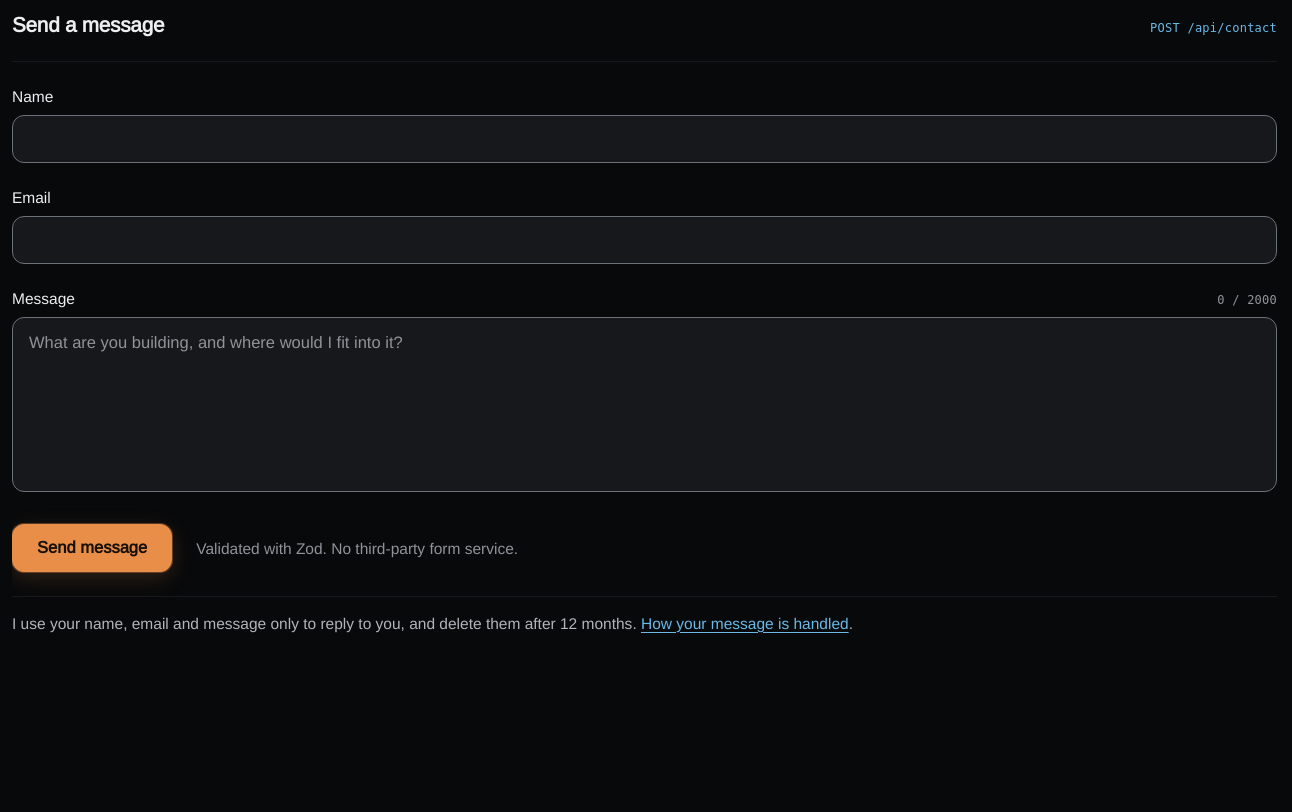
it: ContactForm › surfaces a failure without losing what was typed
The image size is (1292, 812).
Type "Ada Lovelace" into the field labelled "Name".
click(644, 139); type("Ada Lovelace")  # box x1=12 y1=115 x2=1277 y2=163
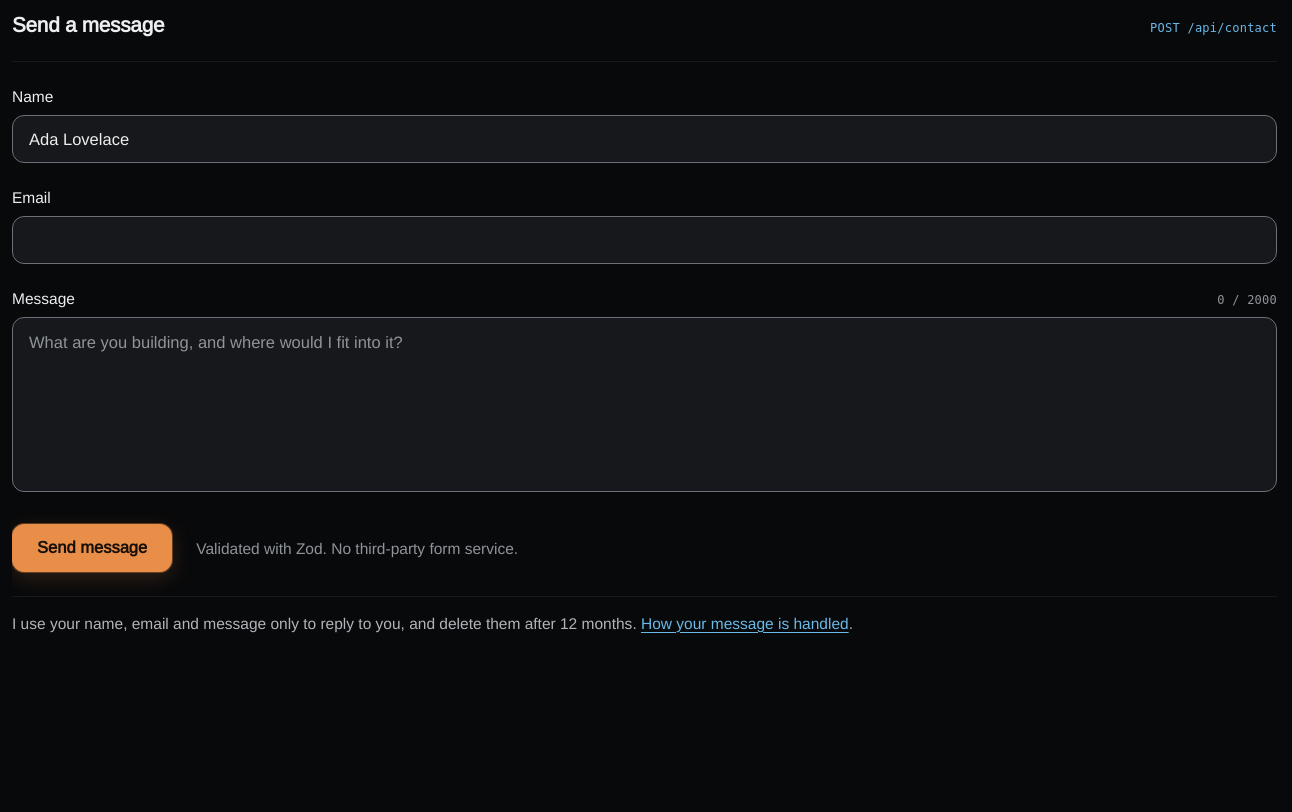
Type "ada@example.com" into the field labelled "Email".
click(644, 240); type("ada@example.com")  # box x1=12 y1=216 x2=1277 y2=264
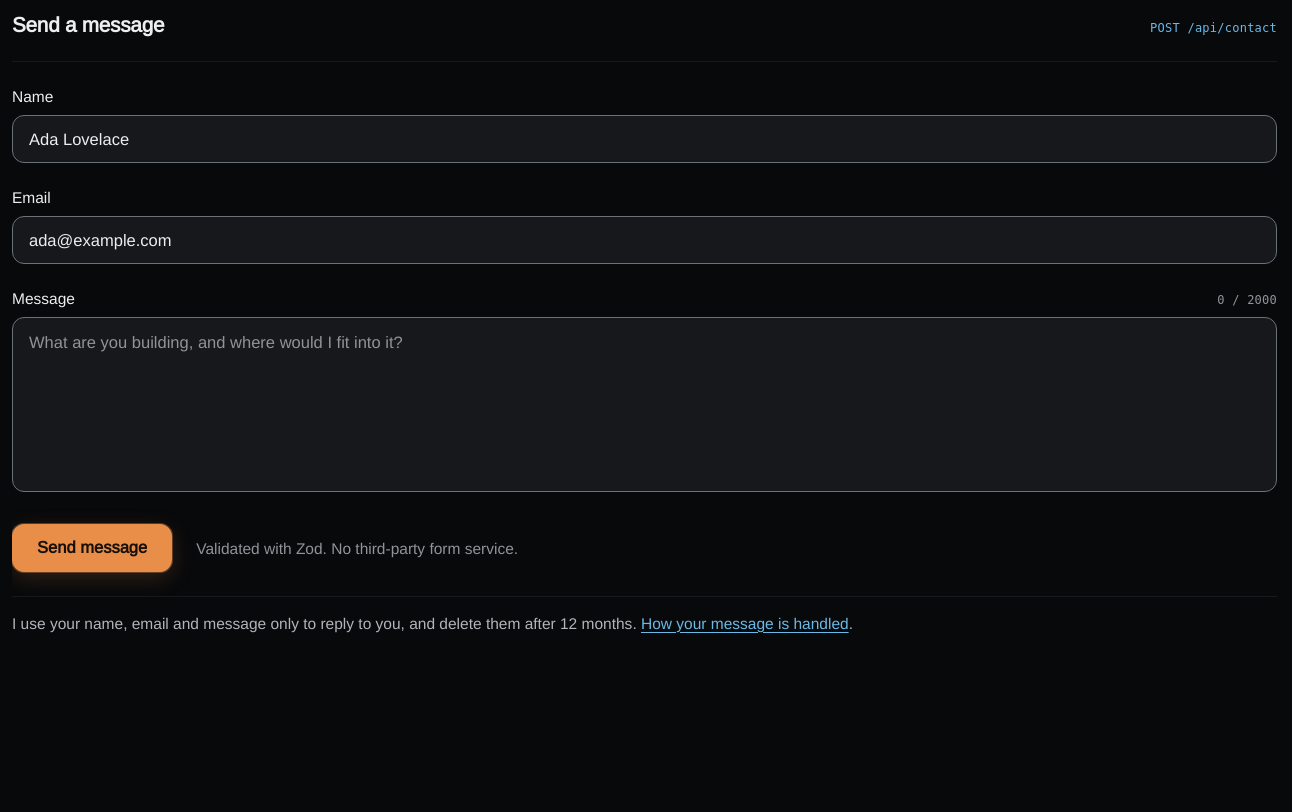
Type "I would like to talk to you about a full-stack role." into the text box labelled "Message".
click(644, 404); type("I would like to talk to you about a full-stack role.")  # box x1=12 y1=317 x2=1277 y2=492
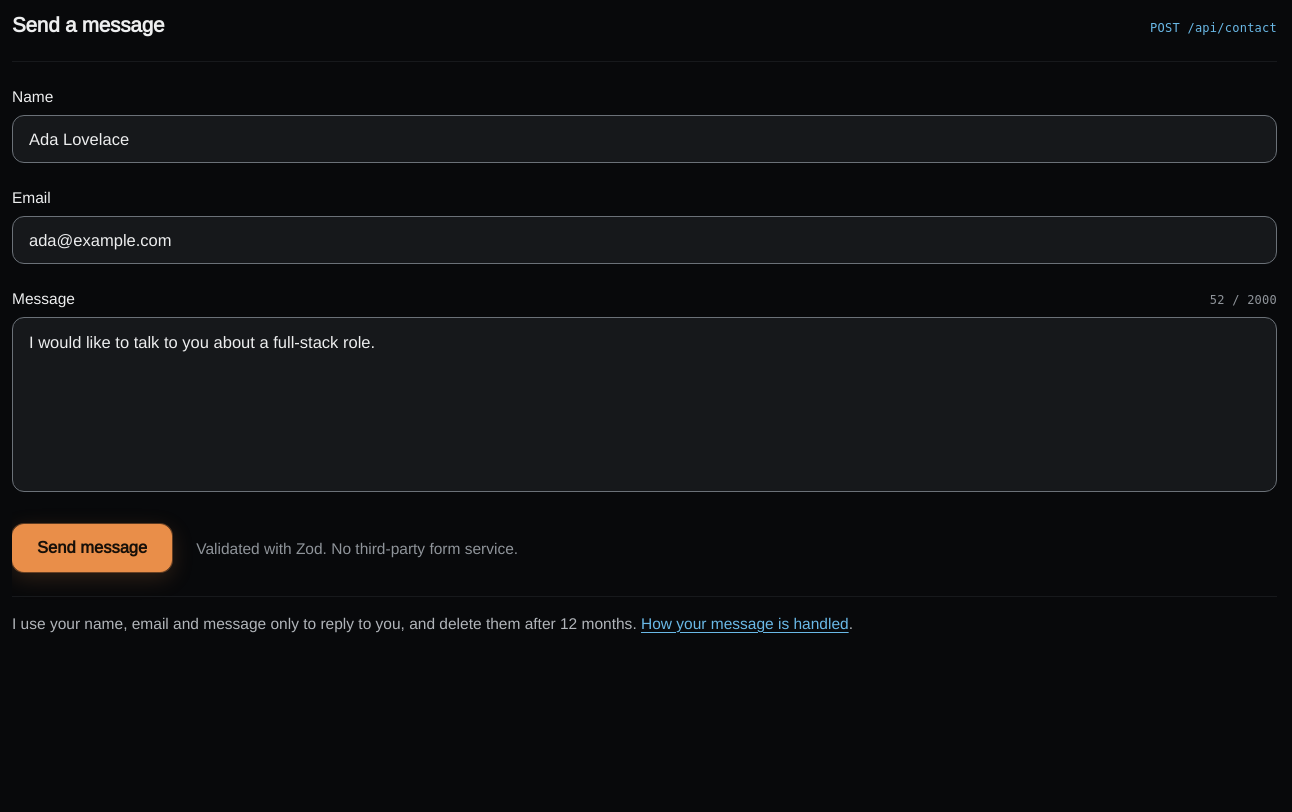
Click the button named "send message".
click(92, 548)  # box x1=12 y1=524 x2=172 y2=572
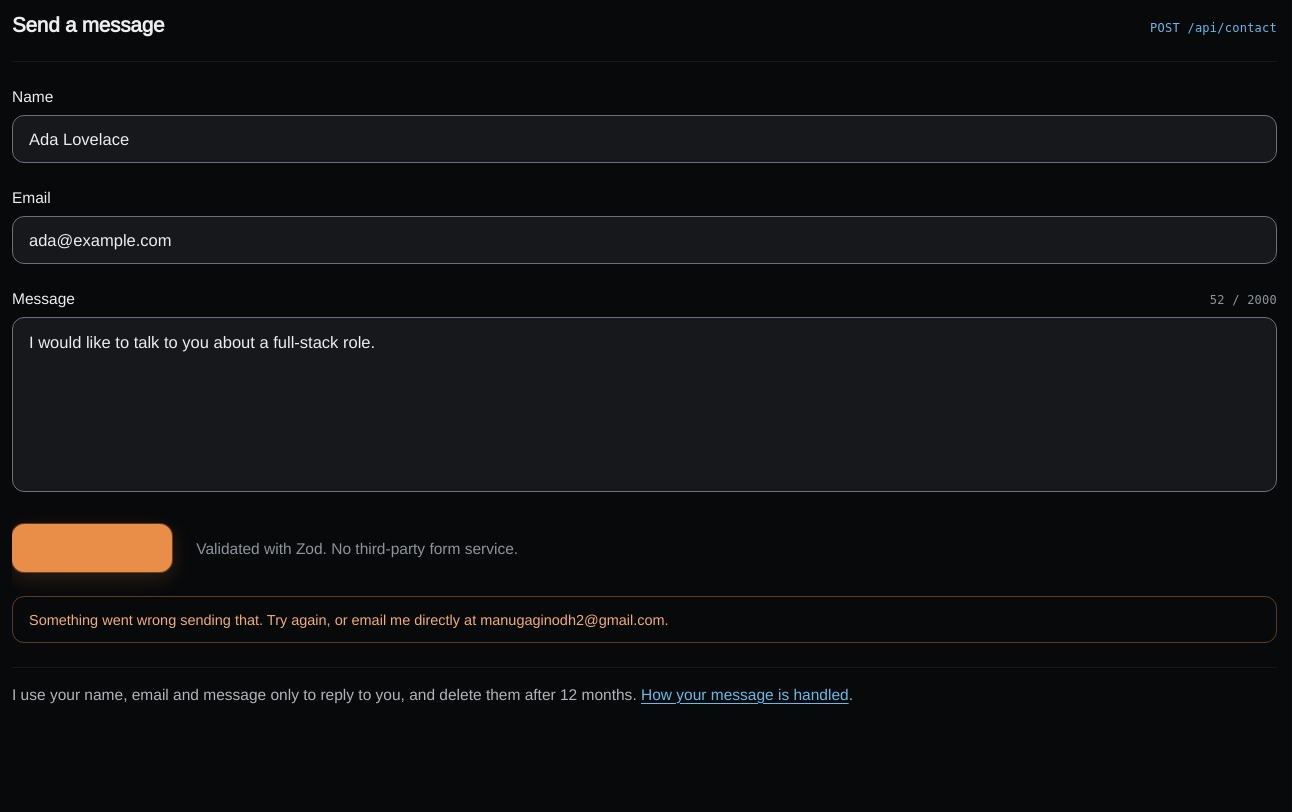
Expected: the message shows "Something went wrong", x1=29 y1=610 x2=259 y2=629
